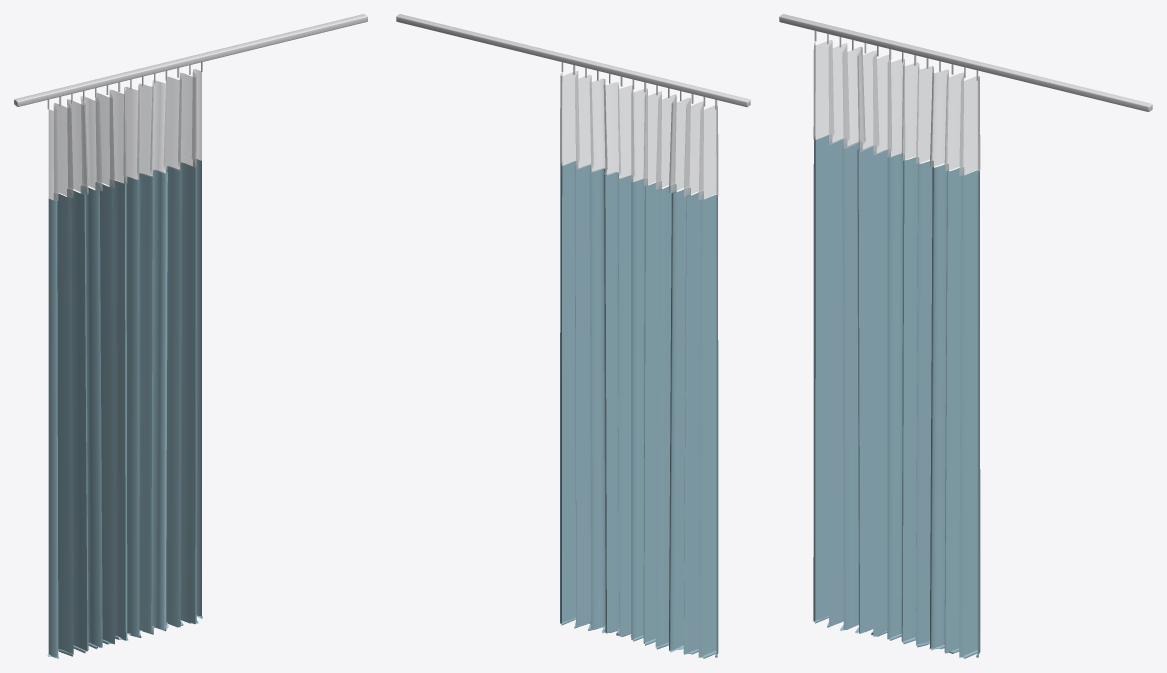
File: rideau.glb
3 views of the same model, side by side, from view 1: azimuth 30°, elevation 25°; view 2: azimuth 150°, elevation 25°; view 3: azimuth 330°, elevation 25° (orthographic). The views are drawn at different scales.
Visible parts, largest first — view 1: rideau; view 2: rideau; view 3: rideau.
Boxes of the visible parts, x1,y1,x2,y2 form: rideau: (14,14,367,658); rideau: (396,14,750,658); rideau: (779,14,1152,658).
Bounding box in the file's own units: 1.6 × 2.46 × 0.1085.
